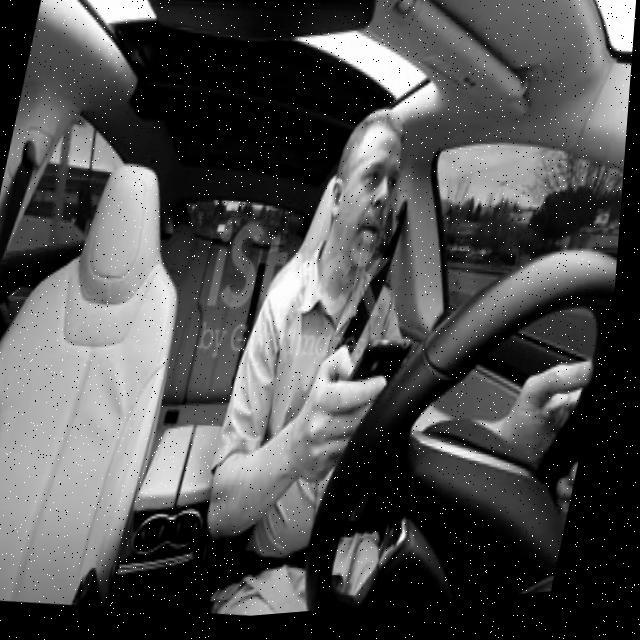PhoneCall: (346, 335, 419, 443)
